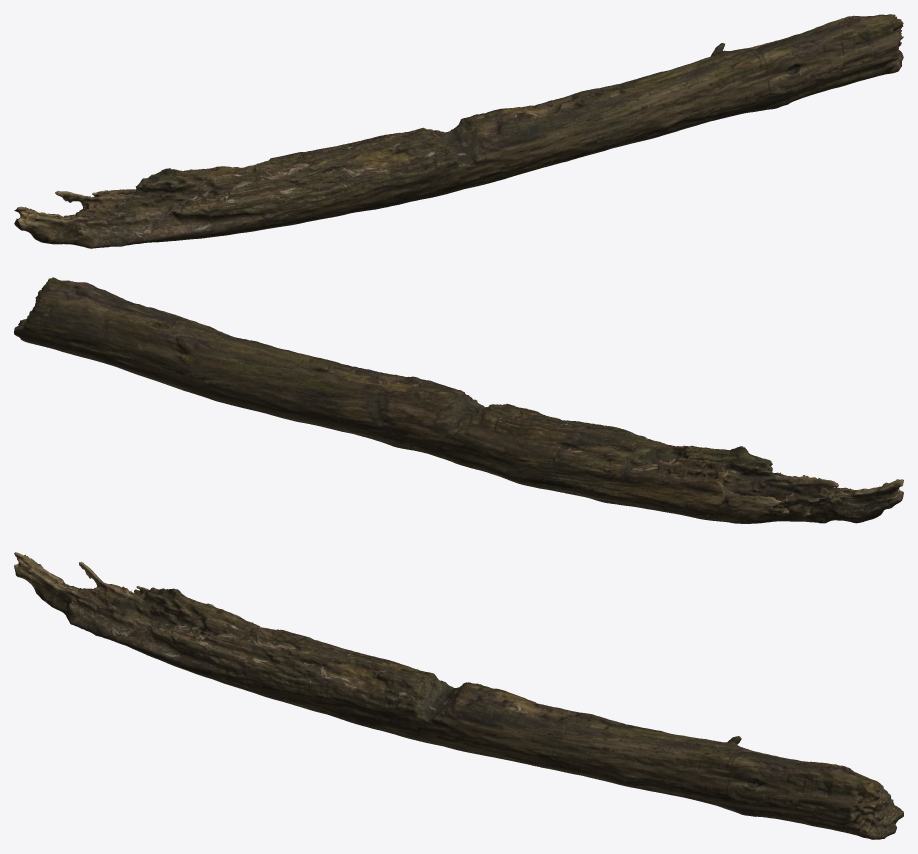
Rendered from Log_a.glb.
The picture shows the model from 3 angles, top to bottom: view 1: azimuth 30°, elevation 25°; view 2: azimuth 150°, elevation 25°; view 3: azimuth 330°, elevation 25°; orthographic projection.
Parts seen in each view (by area): view 1: dead_tree_trunk; view 2: dead_tree_trunk; view 3: dead_tree_trunk.
Part boxes in pixels (<box>): dead_tree_trunk: <box>14,14,903,248</box>; dead_tree_trunk: <box>14,277,903,523</box>; dead_tree_trunk: <box>14,552,903,839</box>.
Size of the model in its own units: 3.05 by 0.2905 by 0.2775.
Materials: 1 (1 with a texture image).
